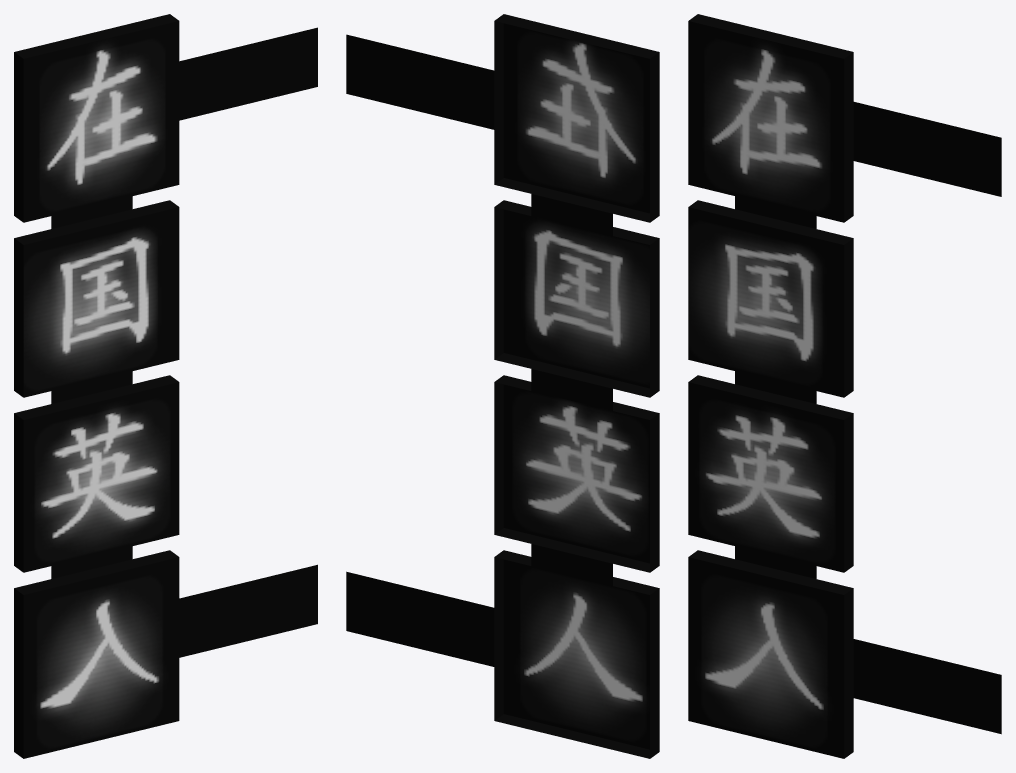
The model's file is bb_chi_left_02.fbx.
3 renders of one model, left to right at view 1: azimuth 30°, elevation 25°; view 2: azimuth 150°, elevation 25°; view 3: azimuth 330°, elevation 25°, orthographic.
Parts seen in each view (by area): view 1: bb_chi_left_02; view 2: bb_chi_left_02; view 3: bb_chi_left_02.
Part boxes in pixels (x1,y1,x2,y2): bb_chi_left_02: (14, 14, 317, 758); bb_chi_left_02: (346, 14, 659, 758); bb_chi_left_02: (688, 14, 1001, 758).
Size of the model in its own units: 156 by 343 by 8.45.
